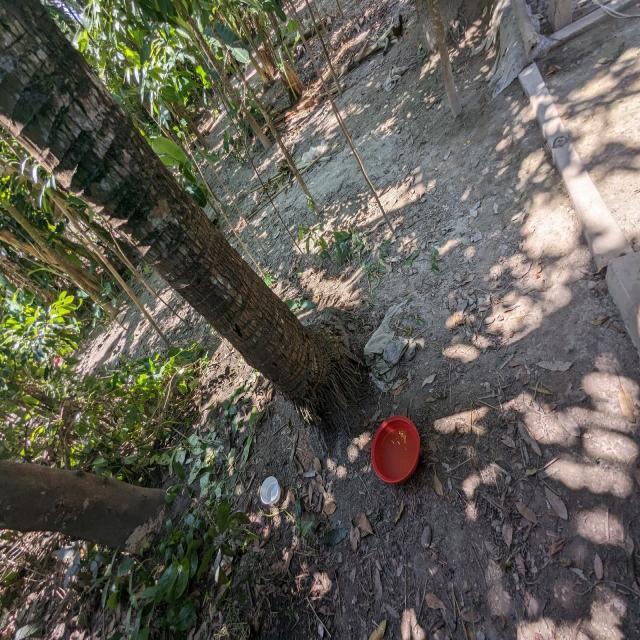Breeding Place: (0, 340, 318, 640), (239, 10, 344, 177), (486, 1, 640, 90), (364, 399, 428, 498), (250, 464, 294, 526)
